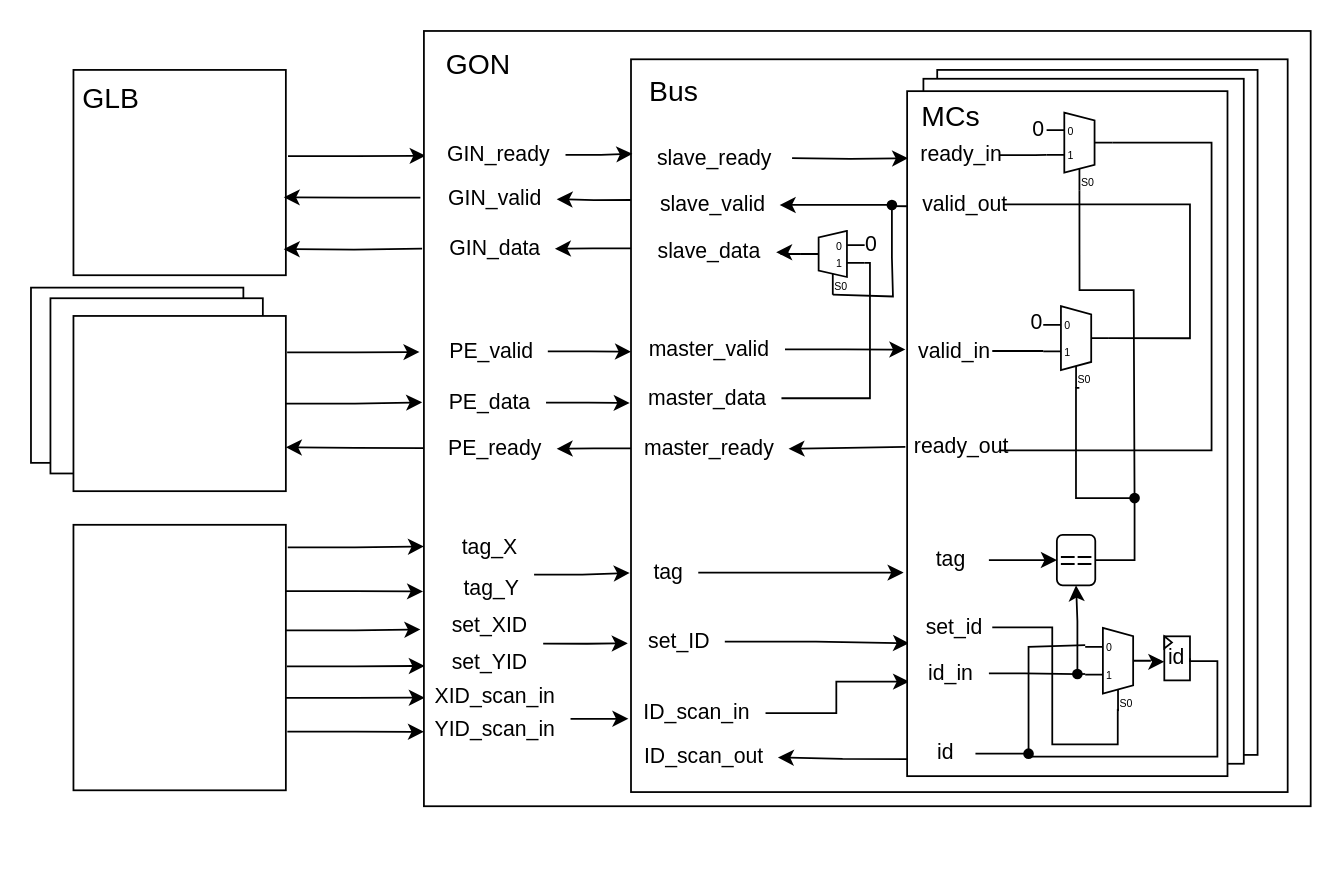
The diagram is 1342 pixels wide and 871 high, and some of its shapes have lost their labels. Each missing label, with the box of its shape:
Controller: (72, 523, 286, 790)
PEs: (72, 314, 286, 491)
